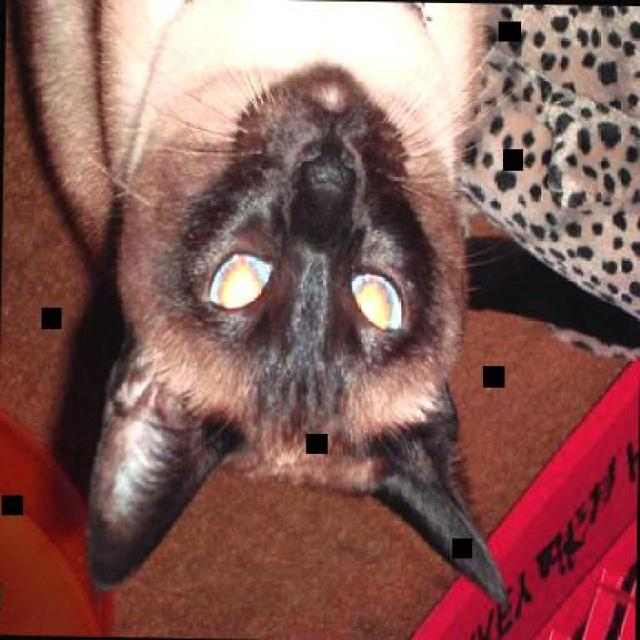cat: (4, 0, 518, 625)
